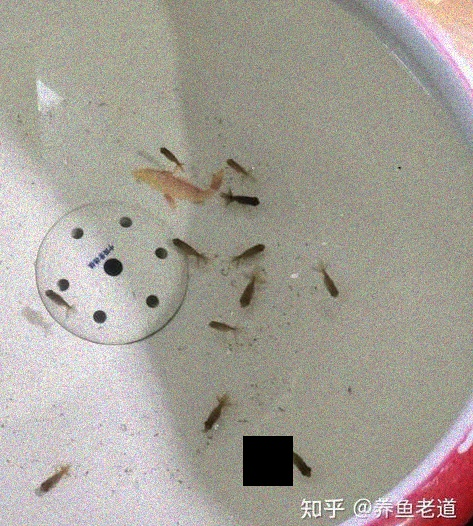fry: (125, 165, 216, 209), (270, 429, 321, 485), (192, 384, 237, 441), (228, 268, 276, 315), (215, 181, 274, 217), (214, 151, 267, 190), (23, 458, 73, 494), (205, 312, 253, 348), (224, 228, 272, 264), (169, 232, 211, 273), (40, 282, 77, 321), (318, 258, 349, 304), (158, 141, 189, 171)
